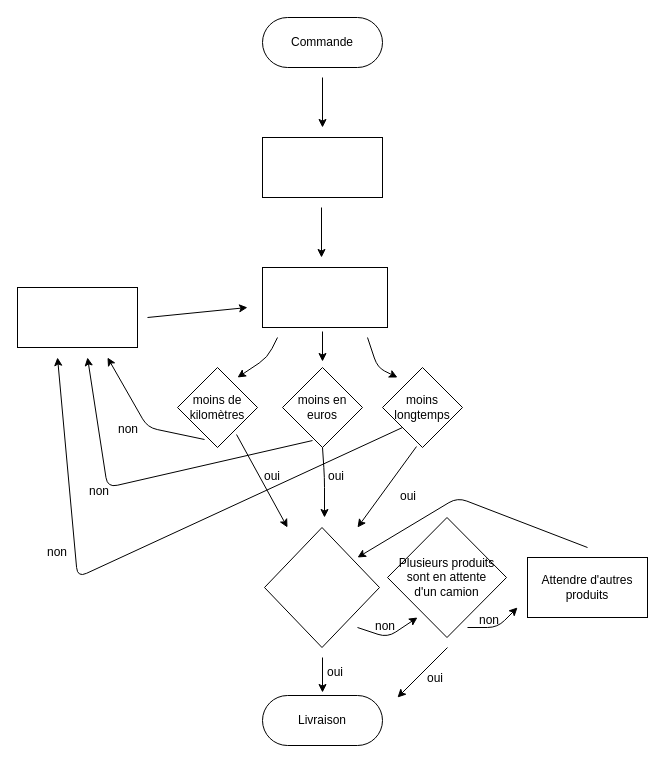
Image size: 665x763. Some labels were removed from this diagram. Each missing label, with the centre of its shape:
"Algorithme de Dijkstra + coût des autoroutes + connaissance des limitations" belongs at point (325, 297).
"Dépôt du colis dans l'entrepôt a proximité du fournisseur" belongs at point (322, 167).
"Faire un autre choix" belongs at point (77, 317).
"Si un camion est prêt à a-partir" belongs at point (322, 587).
